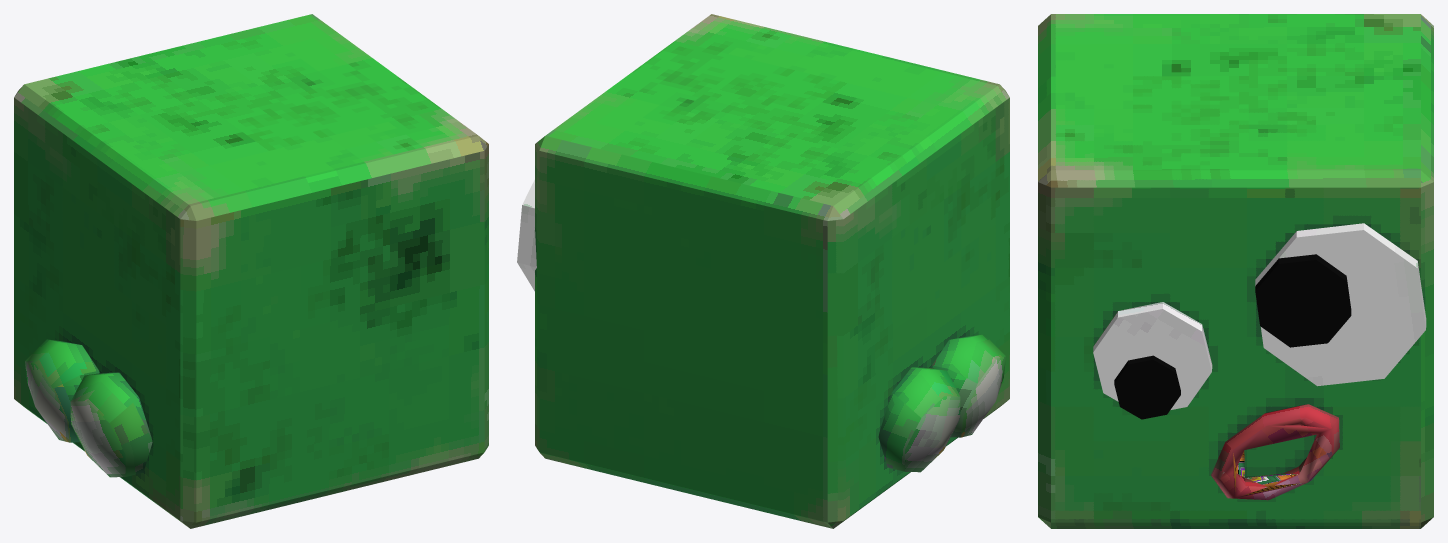
The model's file is item_blox_cube.glb.
3 views of the same model, side by side, from view 1: azimuth 30°, elevation 25°; view 2: azimuth 150°, elevation 25°; view 3: azimuth 270°, elevation 25° (orthographic). The views are drawn at different scales.
Visible parts, largest first — view 1: Blox_Cube; view 2: Blox_Cube; view 3: Blox_Cube.
Boxes of the visible parts, bbox=[...] form: Blox_Cube: bbox=[14, 14, 488, 528]; Blox_Cube: bbox=[517, 14, 1009, 528]; Blox_Cube: bbox=[1038, 14, 1433, 528].
Bounding box in the file's own units: 0.4013 × 0.3313 × 0.3313.
1 material, 1 textured.
